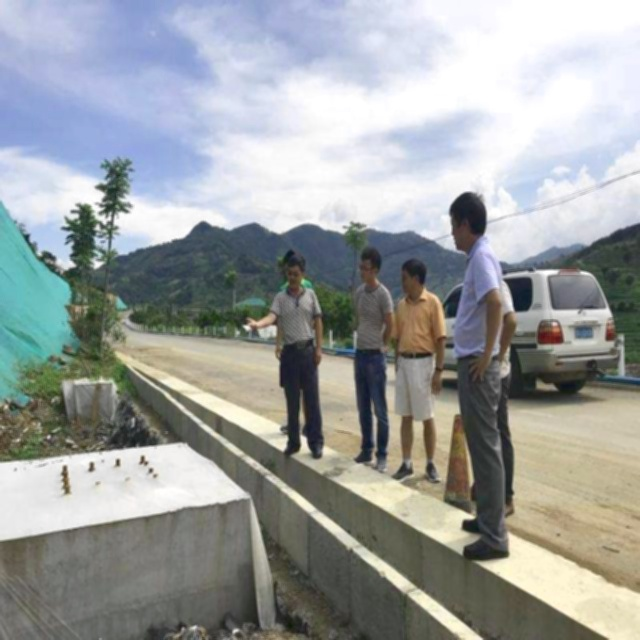Sin_Chaleco: (392, 292, 442, 364), (273, 288, 320, 355), (353, 284, 393, 350)
